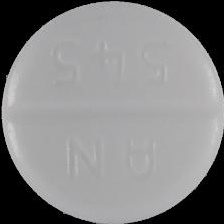42291-511: (0, 0, 224, 224)
